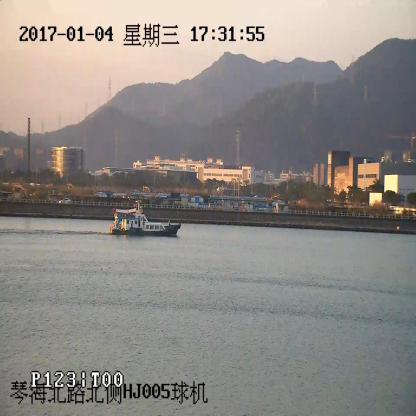Fishing Boat: (110, 204, 181, 238)
